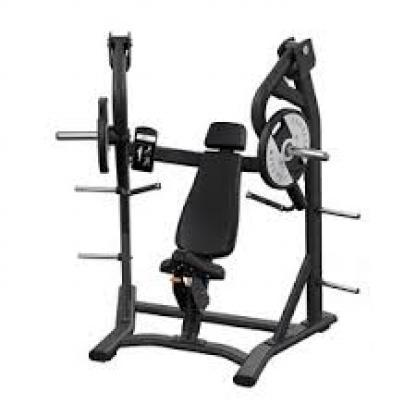Chest Press machine: (50, 20, 377, 395)
